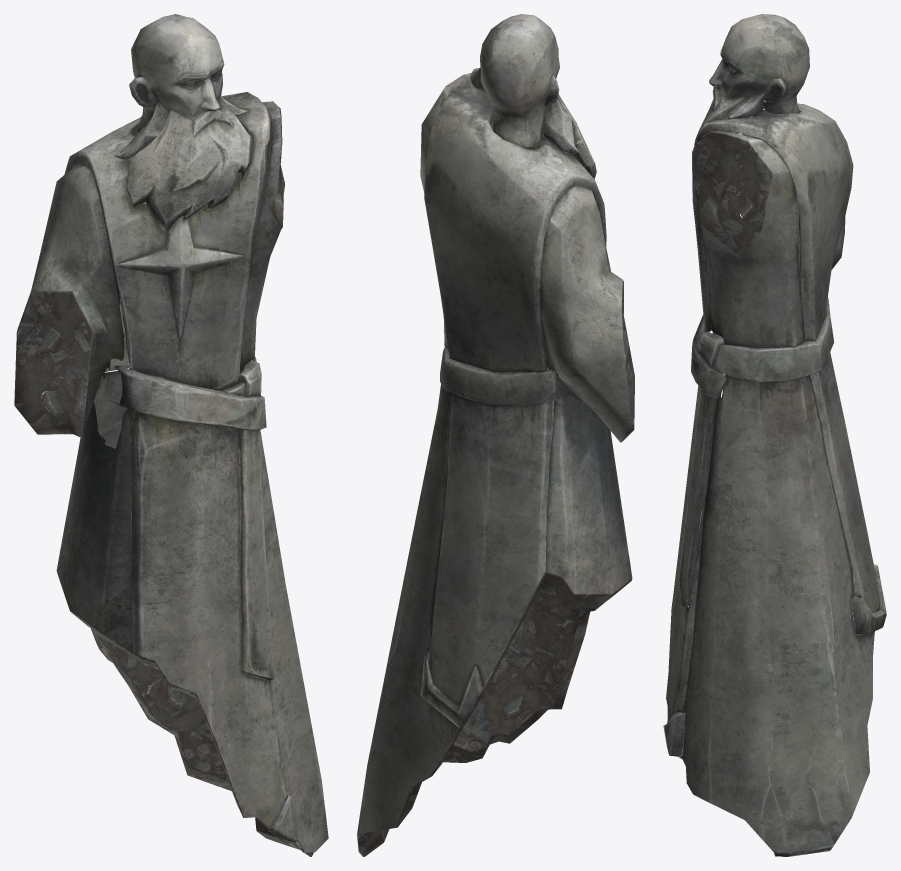
3 views of the same model, side by side, from view 1: azimuth 30°, elevation 25°; view 2: azimuth 150°, elevation 25°; view 3: azimuth 270°, elevation 25° (orthographic). The views are drawn at different scales.
Visible parts, largest first — view 1: SM_SaradominTemple_Statue_01v7_LOD0; view 2: SM_SaradominTemple_Statue_01v7_LOD0; view 3: SM_SaradominTemple_Statue_01v7_LOD0.
Boxes of the visible parts, bbox=[...] form: SM_SaradominTemple_Statue_01v7_LOD0: bbox=[14, 14, 328, 856]; SM_SaradominTemple_Statue_01v7_LOD0: bbox=[357, 14, 634, 856]; SM_SaradominTemple_Statue_01v7_LOD0: bbox=[663, 14, 886, 856].
Size of the model in its own units: 4.12 by 12.15 by 3.16.
Materials: 4 (4 with a texture image).
